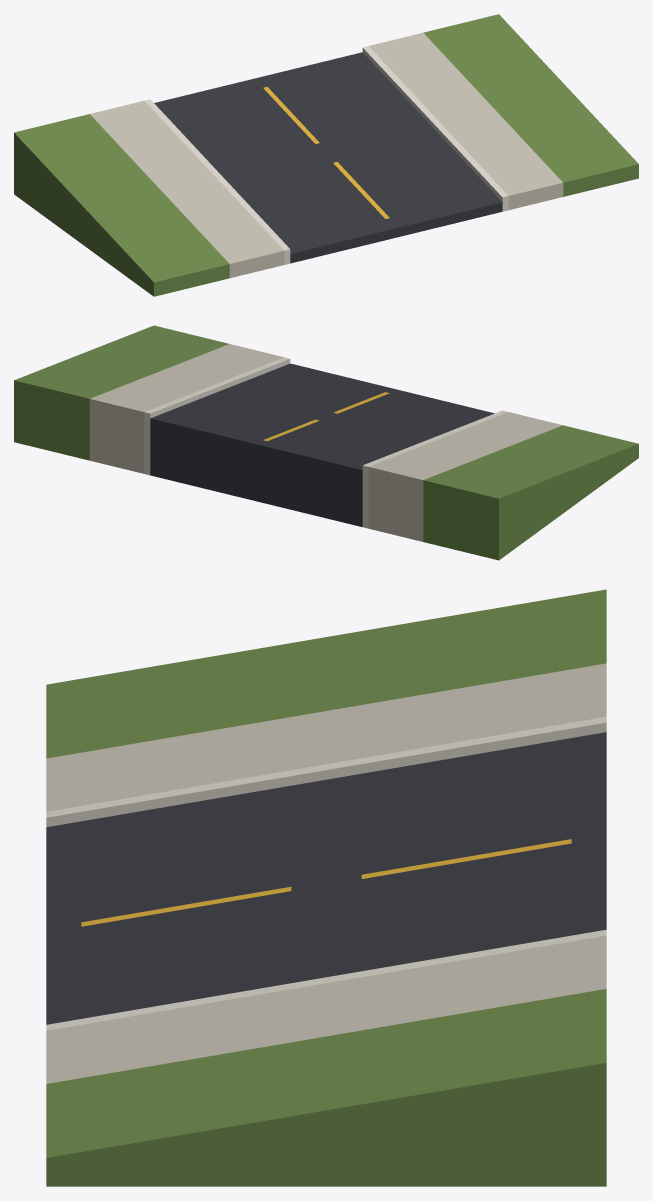
The model's file is Road_2Lane_Sidewalk_Slope_Down_8m.glb.
The picture shows the model from 3 angles, top to bottom: view 1: azimuth 30°, elevation 25°; view 2: azimuth 150°, elevation 25°; view 3: azimuth 270°, elevation 25°; orthographic projection. The views are drawn at different scales.
Parts seen in each view (by area): view 1: Road_2Lane_Sidewalk_Slope_Down_8m_Asphalt, Road_2Lane_Sidewalk_Slope_Down_8m_Grass-edge, Road_2Lane_Sidewalk_Slope_Down_8m_Sidewalk, Road_2Lane_Sidewalk_Slope_Down_8m_Curb, Road_2Lane_Sidewalk_Slope_Down_8m_PaintYellow; view 2: Road_2Lane_Sidewalk_Slope_Down_8m_Asphalt, Road_2Lane_Sidewalk_Slope_Down_8m_Grass-edge, Road_2Lane_Sidewalk_Slope_Down_8m_Sidewalk, Road_2Lane_Sidewalk_Slope_Down_8m_Curb, Road_2Lane_Sidewalk_Slope_Down_8m_PaintYellow; view 3: Road_2Lane_Sidewalk_Slope_Down_8m_Grass-edge, Road_2Lane_Sidewalk_Slope_Down_8m_Asphalt, Road_2Lane_Sidewalk_Slope_Down_8m_Sidewalk, Road_2Lane_Sidewalk_Slope_Down_8m_Curb, Road_2Lane_Sidewalk_Slope_Down_8m_PaintYellow.
Boxes of the visible parts, x1,y1,x2,y2 form: Road_2Lane_Sidewalk_Slope_Down_8m_Asphalt: (154, 52, 502, 263); Road_2Lane_Sidewalk_Slope_Down_8m_Grass-edge: (14, 14, 638, 296); Road_2Lane_Sidewalk_Slope_Down_8m_Sidewalk: (90, 32, 563, 278); Road_2Lane_Sidewalk_Slope_Down_8m_Curb: (144, 46, 508, 264); Road_2Lane_Sidewalk_Slope_Down_8m_PaintYellow: (263, 87, 389, 218); Road_2Lane_Sidewalk_Slope_Down_8m_Asphalt: (150, 363, 494, 526); Road_2Lane_Sidewalk_Slope_Down_8m_Grass-edge: (14, 325, 638, 560); Road_2Lane_Sidewalk_Slope_Down_8m_Sidewalk: (89, 344, 562, 541); Road_2Lane_Sidewalk_Slope_Down_8m_Curb: (144, 357, 507, 528); Road_2Lane_Sidewalk_Slope_Down_8m_PaintYellow: (263, 392, 389, 440); Road_2Lane_Sidewalk_Slope_Down_8m_Grass-edge: (46, 589, 606, 1186); Road_2Lane_Sidewalk_Slope_Down_8m_Asphalt: (46, 732, 606, 1024); Road_2Lane_Sidewalk_Slope_Down_8m_Sidewalk: (46, 663, 606, 1083); Road_2Lane_Sidewalk_Slope_Down_8m_Curb: (46, 716, 606, 1030); Road_2Lane_Sidewalk_Slope_Down_8m_PaintYellow: (81, 839, 571, 926).
Size of the model in its own units: 16 by 1.95 by 8.
